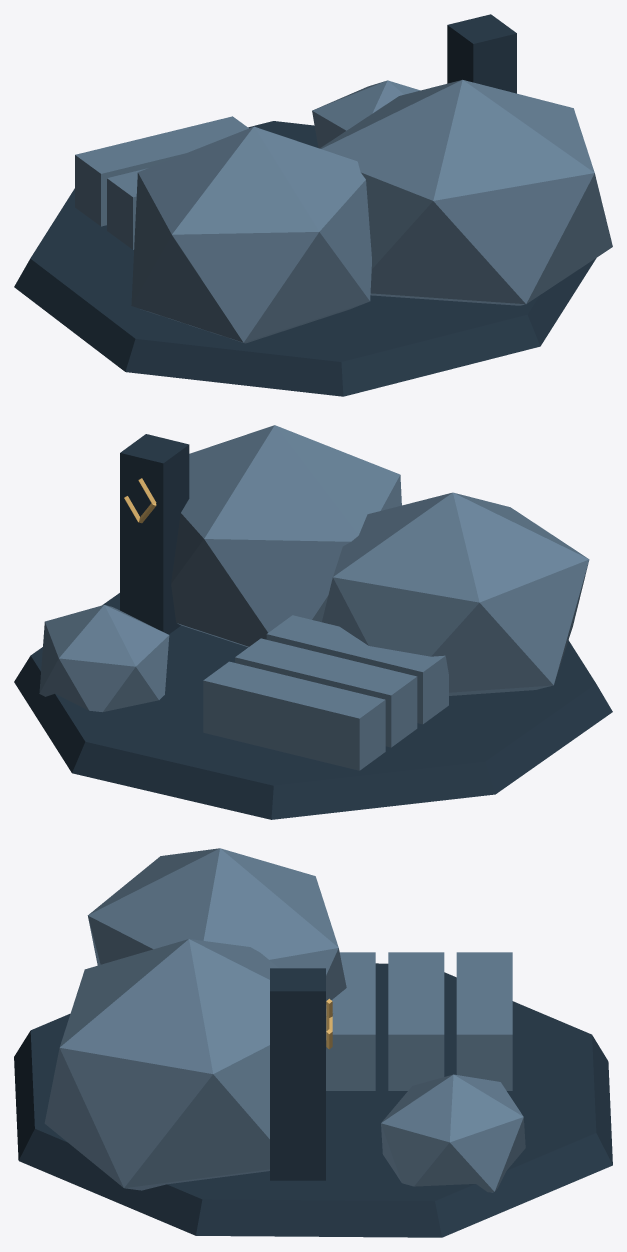
The model's file is Field_Stone.fbx.
3 renders of one model, top to bottom at view 1: azimuth 30°, elevation 25°; view 2: azimuth 150°, elevation 25°; view 3: azimuth 270°, elevation 25°, orthographic. The views are drawn at different scales.
Parts seen in each view (by area): view 1: Field_Stone; view 2: Field_Stone; view 3: Field_Stone.
Part boxes in pixels (left/top/right/bottom): Field_Stone: left=14, top=14, right=612, bottom=396; Field_Stone: left=14, top=425, right=612, bottom=819; Field_Stone: left=14, top=848, right=612, bottom=1237.
Size of the model in its own units: 2 by 0.95 by 2.
